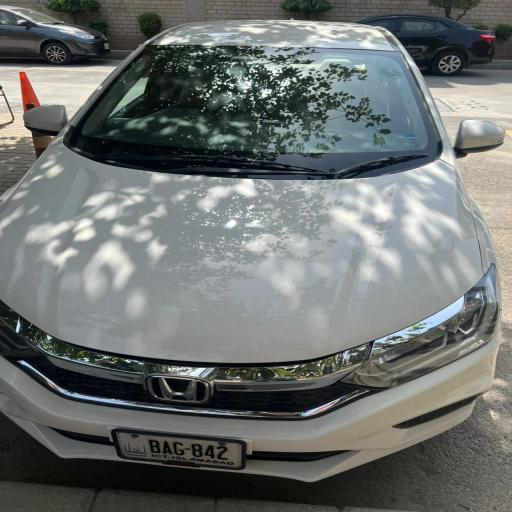bnu_sticker: (379, 66, 404, 80)
number_plate: (109, 427, 249, 470)
